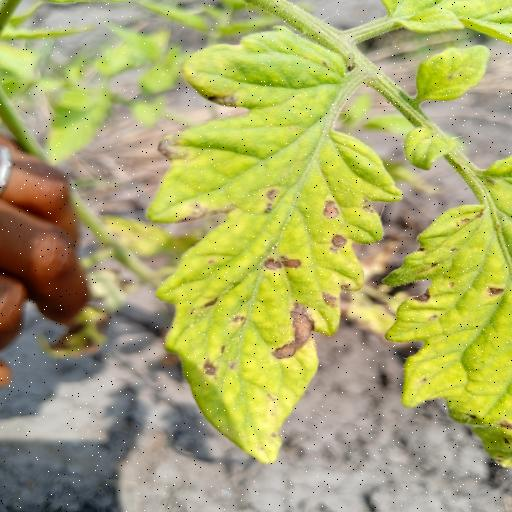Tomato_Brown_Spots: (135, 22, 411, 468)
